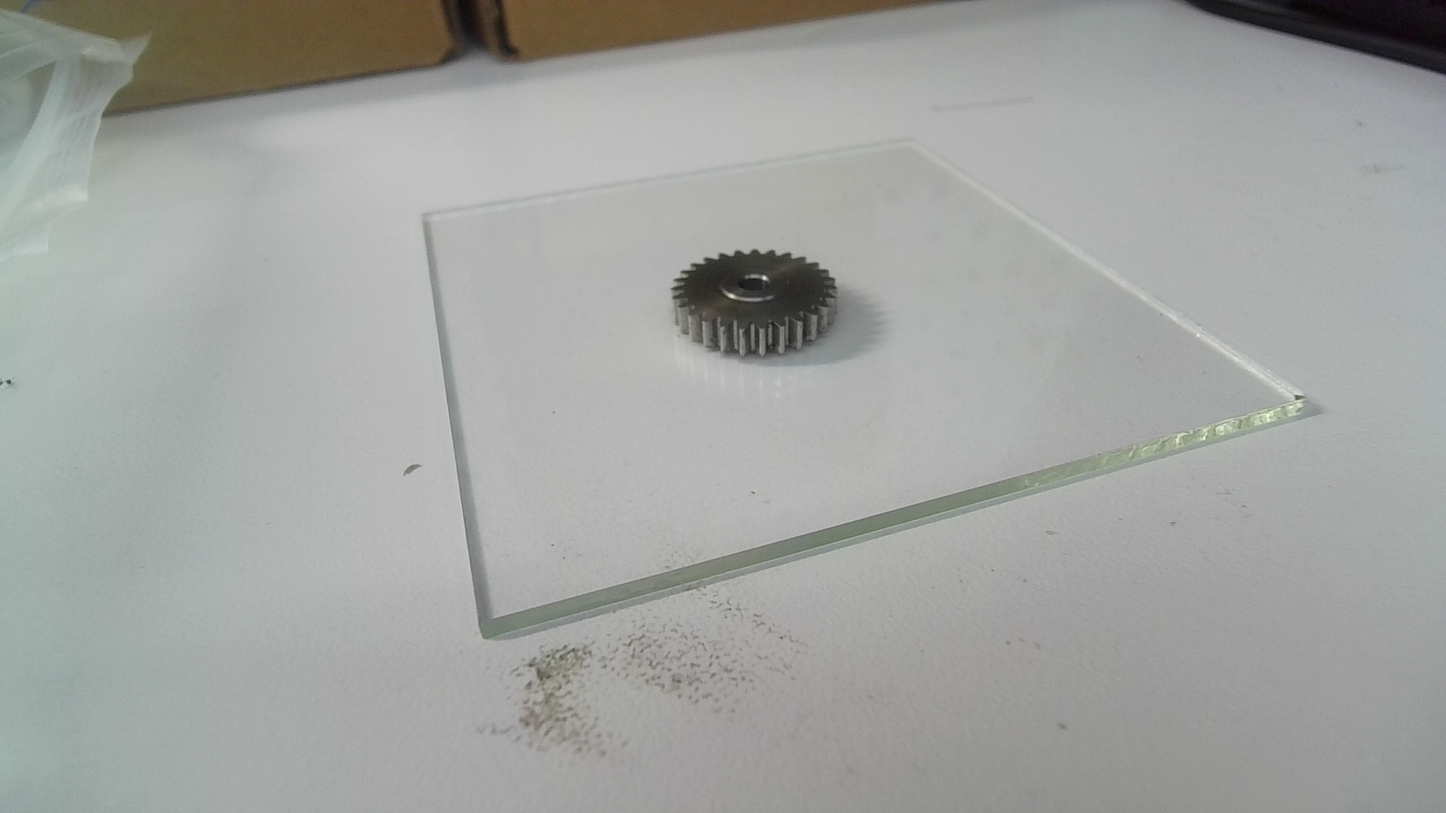gear: (668, 246, 842, 362)
